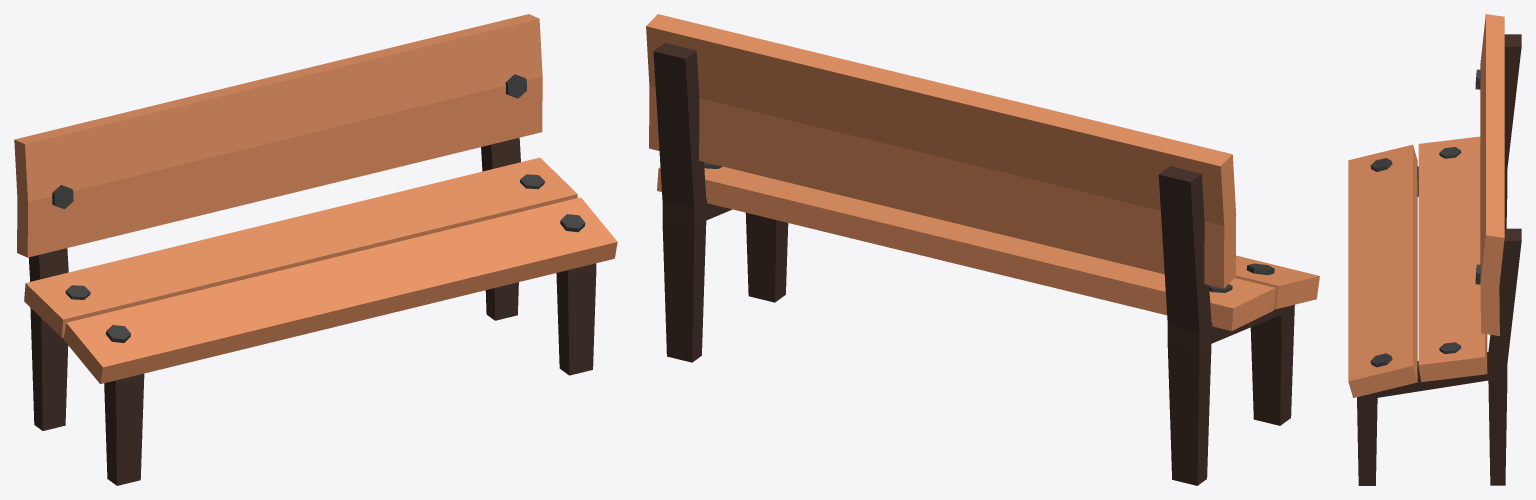
File: yizi.FBX
3 views of the same model, side by side, from view 1: azimuth 30°, elevation 25°; view 2: azimuth 150°, elevation 25°; view 3: azimuth 270°, elevation 25° (orthographic). The views are drawn at different scales.
Visible parts, largest first — view 1: yizi; view 2: yizi; view 3: yizi.
Part boxes in pixels (box(x1,y1,x2,y2)): yizi: box(14, 14, 617, 485); yizi: box(646, 14, 1319, 485); yizi: box(1348, 14, 1521, 485).
Size of the model in its own units: 116 by 63.44 by 38.52.
